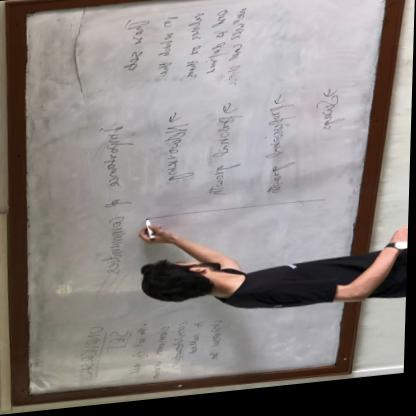Handwritten text: (79, 124, 140, 281), (258, 106, 298, 202), (201, 118, 245, 204), (104, 13, 153, 83), (155, 122, 201, 196), (225, 8, 256, 94), (68, 325, 105, 388), (152, 15, 181, 86), (202, 8, 228, 82), (181, 10, 205, 90), (306, 99, 349, 140), (129, 319, 155, 379), (150, 325, 173, 385), (171, 317, 191, 378), (206, 320, 228, 370), (105, 326, 134, 362), (190, 322, 207, 362)
Lecturer: (137, 214, 401, 337)
Whiteboard: (17, 0, 394, 398)
